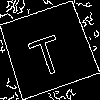T: (23, 24, 68, 79)
